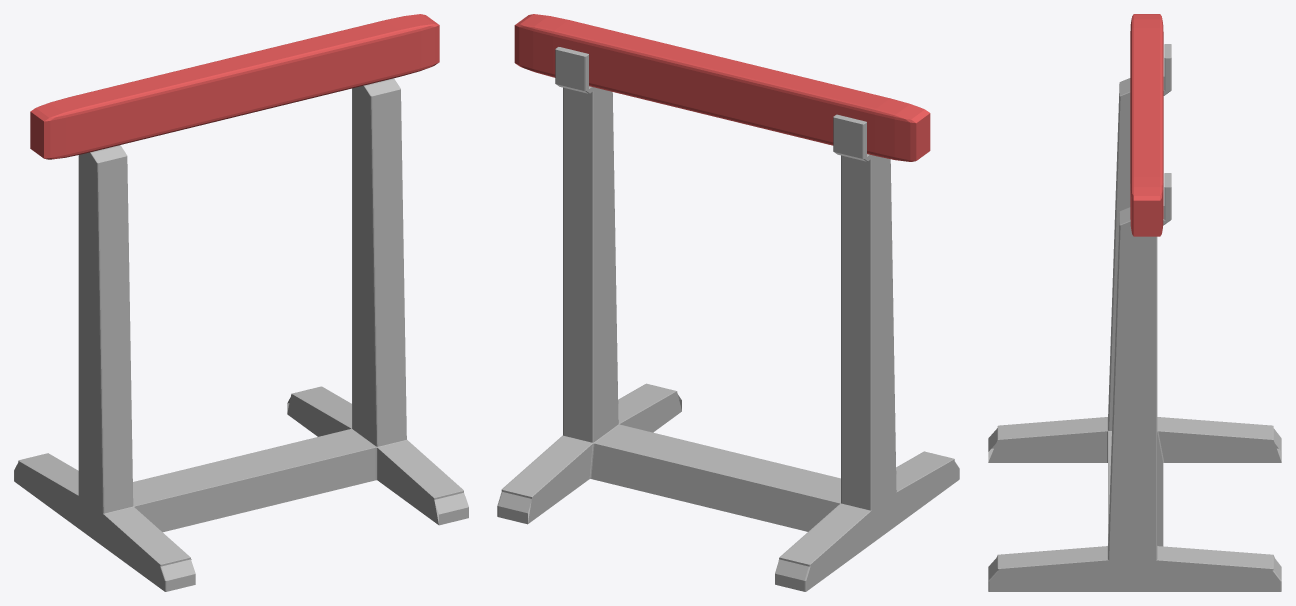
The model's file is ice_clusters.glb.
The picture shows the model from 3 angles, left to right: view 1: azimuth 30°, elevation 25°; view 2: azimuth 150°, elevation 25°; view 3: azimuth 270°, elevation 25°; orthographic projection. The views are drawn at different scales.
Visible parts, largest first — view 1: Hurdle, HurdleBar; view 2: Hurdle, HurdleBar; view 3: Hurdle, HurdleBar.
Boxes of the visible parts, x1,y1,x2,y2 form: Hurdle: [14, 78, 468, 591]; HurdleBar: [30, 14, 439, 159]; Hurdle: [497, 47, 959, 591]; HurdleBar: [514, 14, 930, 161]; Hurdle: [988, 44, 1281, 591]; HurdleBar: [1130, 14, 1163, 236].
Size of the model in its own units: 1.6 by 1.67 by 1.06.
